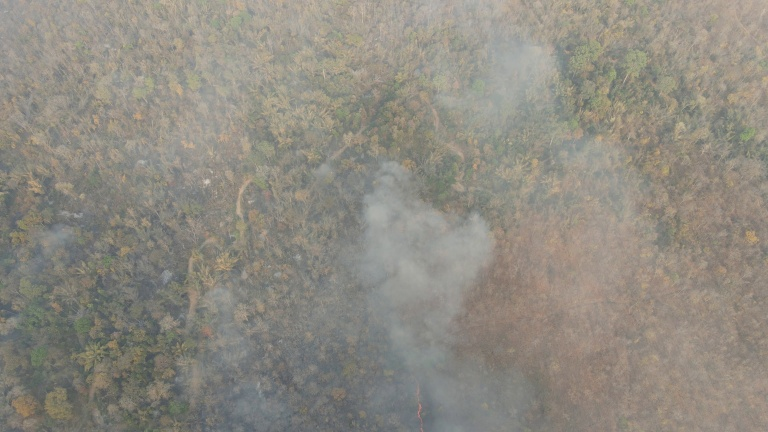fire: (412, 377, 428, 431)
smoke: (360, 184, 482, 368), (463, 29, 558, 123), (439, 365, 528, 432)
